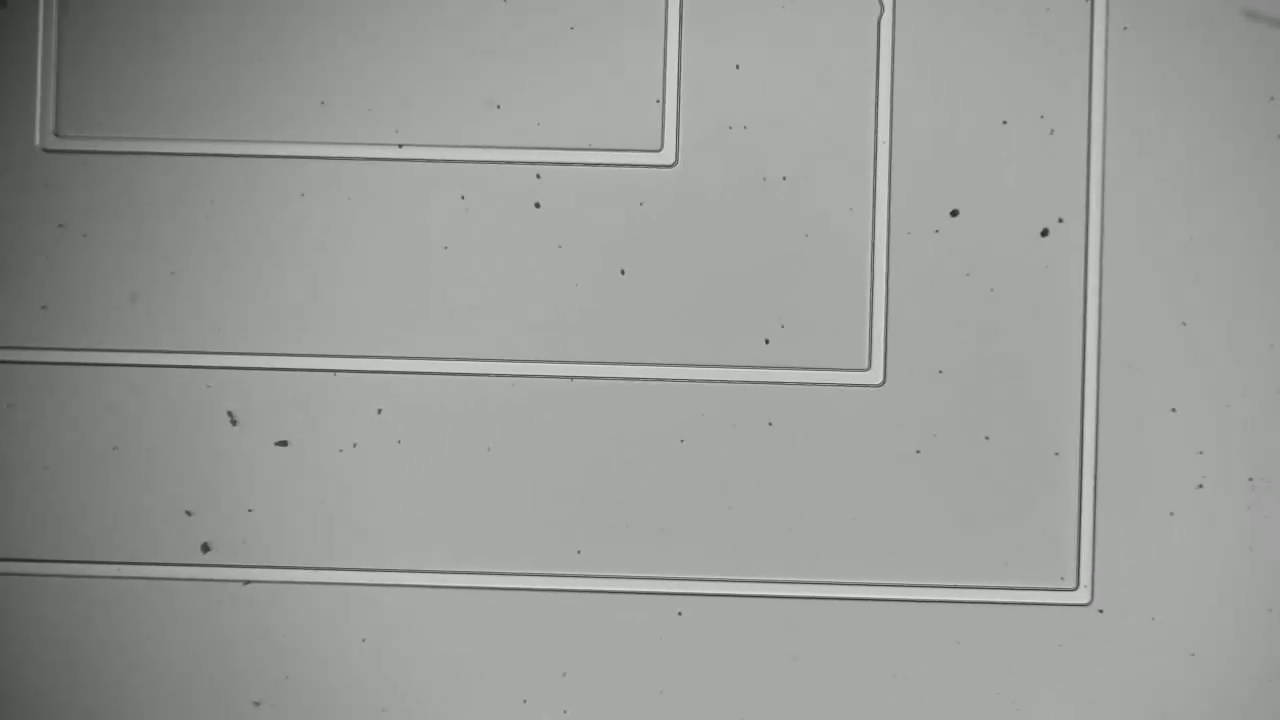edge_bite: (868, 1, 910, 25)
